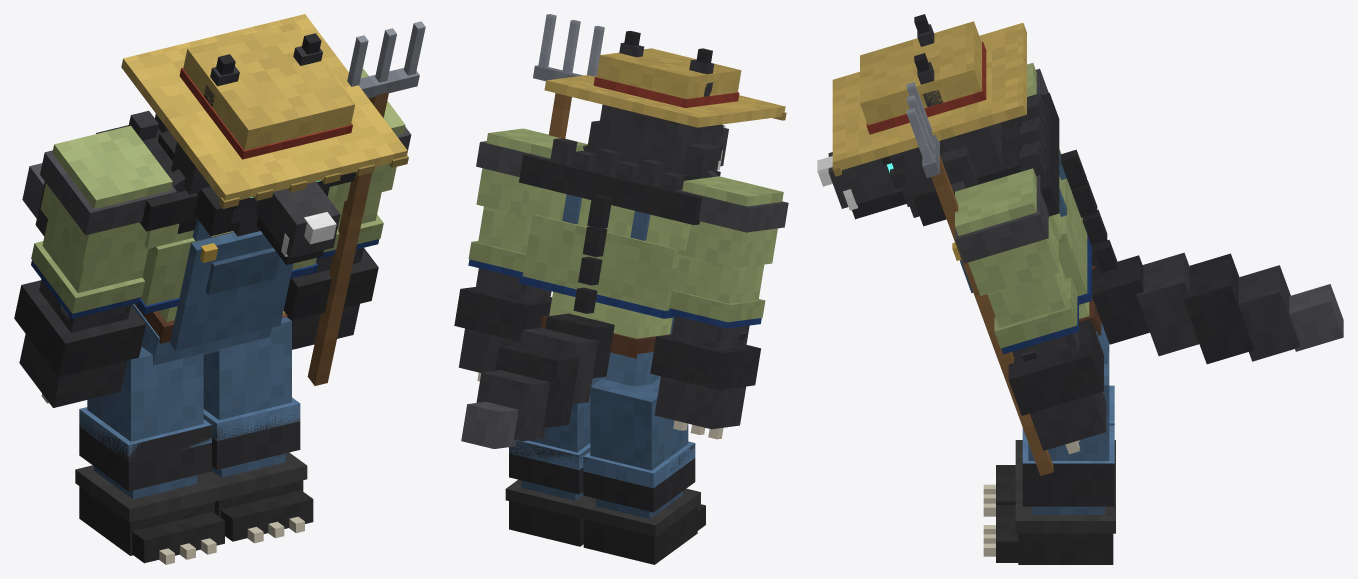
The model's file is lycan_fermier.glb.
3 views of the same model, side by side, from view 1: azimuth 30°, elevation 25°; view 2: azimuth 150°, elevation 25°; view 3: azimuth 270°, elevation 25° (orthographic). The views are drawn at different scales.
Visible parts, largest first — view 1: Head, ArmR, LegR, Torso, LegL, HandL, ArmL, Root; view 2: Torso, ArmR, Head, LegR, ArmL, LegL, HandL; view 3: Head, Torso, ArmL, LegL, HandL, LegR, Root.
Part boxes in pixels (<box>): Head: <box>121,14,408,264</box>; ArmR: <box>14,125,178,407</box>; LegR: <box>75,346,224,563</box>; Torso: <box>22,110,355,365</box>; LegL: <box>201,316,313,541</box>; HandL: <box>307,21,425,385</box>; ArmL: <box>283,69,411,349</box>; Root: <box>159,516,304,564</box>; Torso: <box>461,138,702,448</box>; ArmR: <box>650,176,788,439</box>; Head: <box>544,31,786,180</box>; LegR: <box>580,377,705,564</box>; ArmL: <box>454,128,587,381</box>; LegL: <box>505,377,601,546</box>; HandL: <box>533,14,604,138</box>; Head: <box>817,14,1026,226</box>; Torso: <box>952,93,1343,364</box>; ArmL: <box>955,168,1106,454</box>; LegL: <box>996,352,1115,564</box>; HandL: <box>906,82,1053,475</box>; LegR: <box>996,341,1115,504</box>; Root: <box>983,484,995,556</box>.
Bounding box in the file's own units: 1.24 × 1.94 × 1.89.
40 materials, 40 textured.
